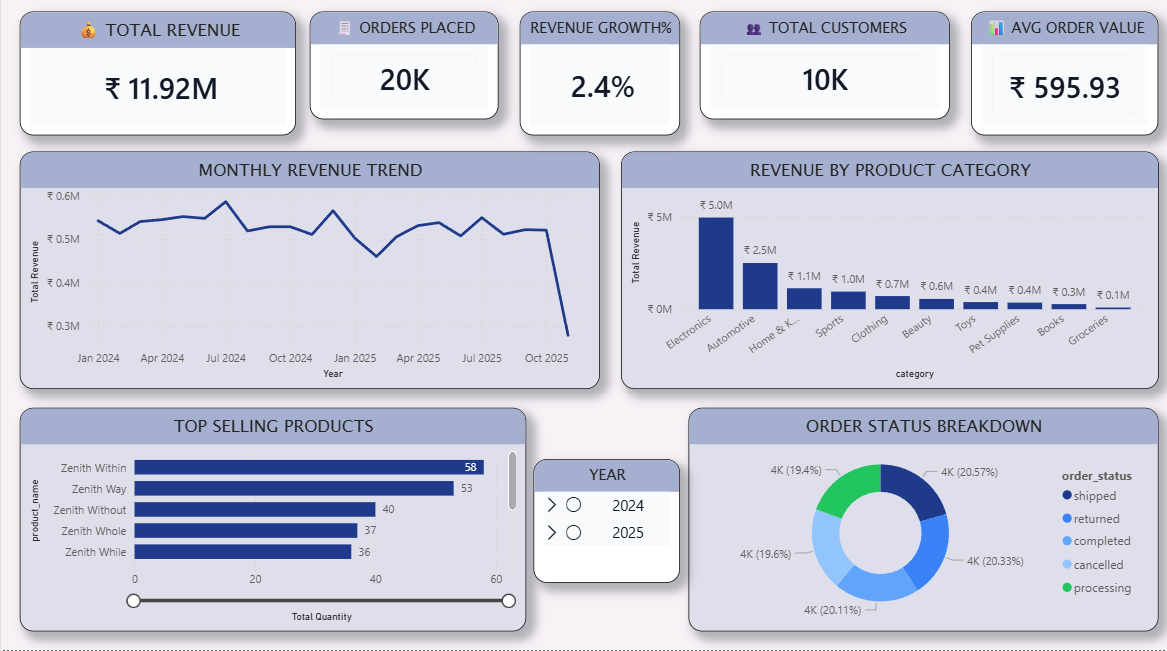

The dashboard page shown, as its layout file describes it:
{"tool":"powerbi","page":{"name":"Page 1","canvas":[1280,720],"ordinal":0},"visuals":[{"type":"cardVisual","title":"💰 TOTAL REVENUE","fields":{"Data":["ecommerce_sql order_items.Total Revenue"]},"box":[20.6,19.2,303.3,135.8],"z":0},{"type":"cardVisual","title":"🧾 ORDERS PLACED","fields":{"Data":["ecommerce_sql orders.Total Orders"]},"box":[338.9,19.2,207.2,118],"z":1000},{"type":"cardVisual","title":"👥 TOTAL CUSTOMERS","fields":{"Data":["ecommerce_sql users.Total Customers"]},"box":[767.1,19.2,274.4,118],"z":2000},{"type":"cardVisual","title":"📊 AVG ORDER VALUE","fields":{"Data":["ecommerce_sql order_items.AOV"]},"box":[1064.8,19.2,205.8,135.8],"z":3000},{"type":"lineChart","title":"MONTHLY REVENUE TREND ","fields":{"Y":["ecommerce_sql order_items.Total Revenue"],"Category":["ecommerce_sql orders.order_date.Variation.Date Hierarchy.Year","ecommerce_sql orders.order_date.Variation.Date Hierarchy.Month"]},"box":[20.6,172.9,636.7,260.7],"z":4000},{"type":"clusteredColumnChart","title":"REVENUE BY PRODUCT CATEGORY","fields":{"Category":["ecommerce_sql products.category"],"Y":["ecommerce_sql order_items.Total Revenue"]},"box":[680.6,172.9,590.1,260.7],"z":5000},{"type":"clusteredBarChart","title":"TOP SELLING PRODUCTS","fields":{"Category":["ecommerce_sql products.product_name"],"Y":["ecommerce_sql order_items.Total Quantity"]},"box":[20.6,454.2,555.7,245.6],"z":6000},{"type":"donutChart","title":"ORDER STATUS BREAKDOWN","fields":{"Category":["ecommerce_sql orders.order_status"],"Y":["ecommerce_sql orders.Total Orders"]},"box":[754.7,454.2,516,245.6],"z":7000},{"type":"listSlicer","title":"YEAR","fields":{"Values":["ecommerce_sql orders.order_date.Variation.Date Hierarchy.Year","ecommerce_sql orders.order_date.Variation.Date Hierarchy.Quarter","ecommerce_sql orders.order_date.Variation.Date Hierarchy.Month","ecommerce_sql orders.order_date.Variation.Date Hierarchy.Day"]},"box":[584.6,510.5,160.5,135.8],"z":8000},{"type":"cardVisual","title":"REVENUE GROWTH%","fields":{"Data":["ecommerce_sql order_items.Revenue Growth %"]},"box":[569.5,19.2,175.6,135.8],"z":9000}]}

Visuals, with their boxes in screenshot pixels (x1, y1, x2, y2), scaled from the page's 1280x720 canvas onto the 1167x651 screenshot:
"💰 TOTAL REVENUE" cardVisual: bbox=[19, 17, 295, 140]
"🧾 ORDERS PLACED" cardVisual: bbox=[309, 17, 498, 124]
"👥 TOTAL CUSTOMERS" cardVisual: bbox=[699, 17, 950, 124]
"📊 AVG ORDER VALUE" cardVisual: bbox=[971, 17, 1158, 140]
"MONTHLY REVENUE TREND " lineChart: bbox=[19, 156, 599, 392]
"REVENUE BY PRODUCT CATEGORY" clusteredColumnChart: bbox=[621, 156, 1159, 392]
"TOP SELLING PRODUCTS" clusteredBarChart: bbox=[19, 411, 525, 633]
"ORDER STATUS BREAKDOWN" donutChart: bbox=[688, 411, 1159, 633]
"YEAR" listSlicer: bbox=[533, 462, 679, 584]
"REVENUE GROWTH%" cardVisual: bbox=[519, 17, 679, 140]
